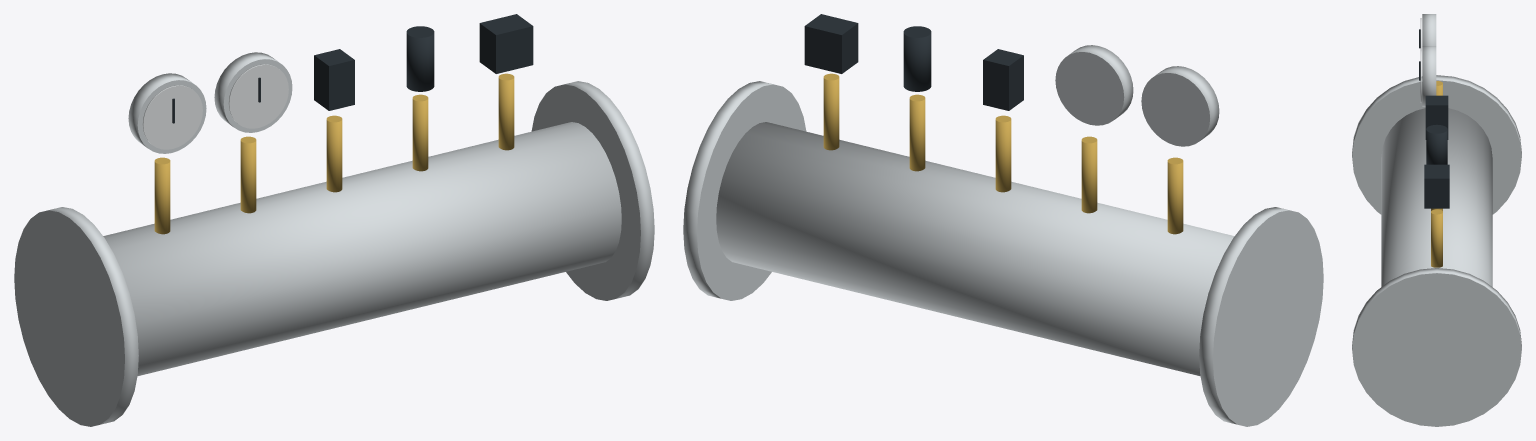
Rendered from collector__c2500-supply.glb.
3 views of the same model, side by side, from view 1: azimuth 30°, elevation 25°; view 2: azimuth 150°, elevation 25°; view 3: azimuth 270°, elevation 25° (orthographic). The views are drawn at different scales.
Parts seen in each view (by area): view 1: Коллектор, Фланец, Фланец.001, Шкала.001, Шкала, Реле протока, Датчик давления, Термометр, Манометр, Датчик температуры, Отбор импульса.001, Отбор импульса.002 (+3 smaller); view 2: Коллектор, Фланец, Фланец.001, Термометр, Манометр, Реле протока, Датчик давления, Датчик температуры, Отбор импульса.001, Отбор импульса.002, Отбор импульса, Отбор импульса.003 (+1 smaller); view 3: Фланец.001, Коллектор, Фланец, Реле протока, Датчик температуры, Датчик давления, Термометр, Отбор импульса.004, Манометр.
Part boxes in pixels (x1,y1,x2,y2): Коллектор: (103,122,621,375); Фланец: (14,207,138,426); Фланец.001: (531,81,654,300); Шкала.001: (228,64,288,128); Шкала: (142,85,202,149); Реле протока: (479,14,533,73); Датчик давления: (314,49,354,110); Термометр: (214,52,292,132); Манометр: (128,73,206,153); Датчик температуры: (406,26,434,91); Отбор импульса.001: (240,136,256,213); Отбор импульса.002: (326,115,342,192); Коллектор: (716,122,1234,375); Фланец: (1199,207,1323,426); Фланец.001: (683,81,806,300); Термометр: (1055,45,1133,125); Манометр: (1141,66,1219,146); Реле протока: (804,14,858,73); Датчик давления: (983,49,1023,110); Датчик температуры: (903,26,931,91); Отбор импульса.001: (1081,136,1097,213); Отбор импульса.002: (995,115,1011,192); Отбор импульса: (1167,157,1183,234); Отбор импульса.003: (909,94,925,171); Фланец.001: (1352,268,1521,426); Коллектор: (1381,108,1492,286); Фланец: (1352,75,1521,214); Реле протока: (1424,164,1449,208); Датчик температуры: (1426,124,1447,164); Датчик давления: (1425,95,1448,139); Термометр: (1422,46,1436,106); Отбор импульса.004: (1431,209,1442,267); Манометр: (1422,14,1436,45).
Size of the model in its own units: 0.924 by 0.5375 by 0.335.
